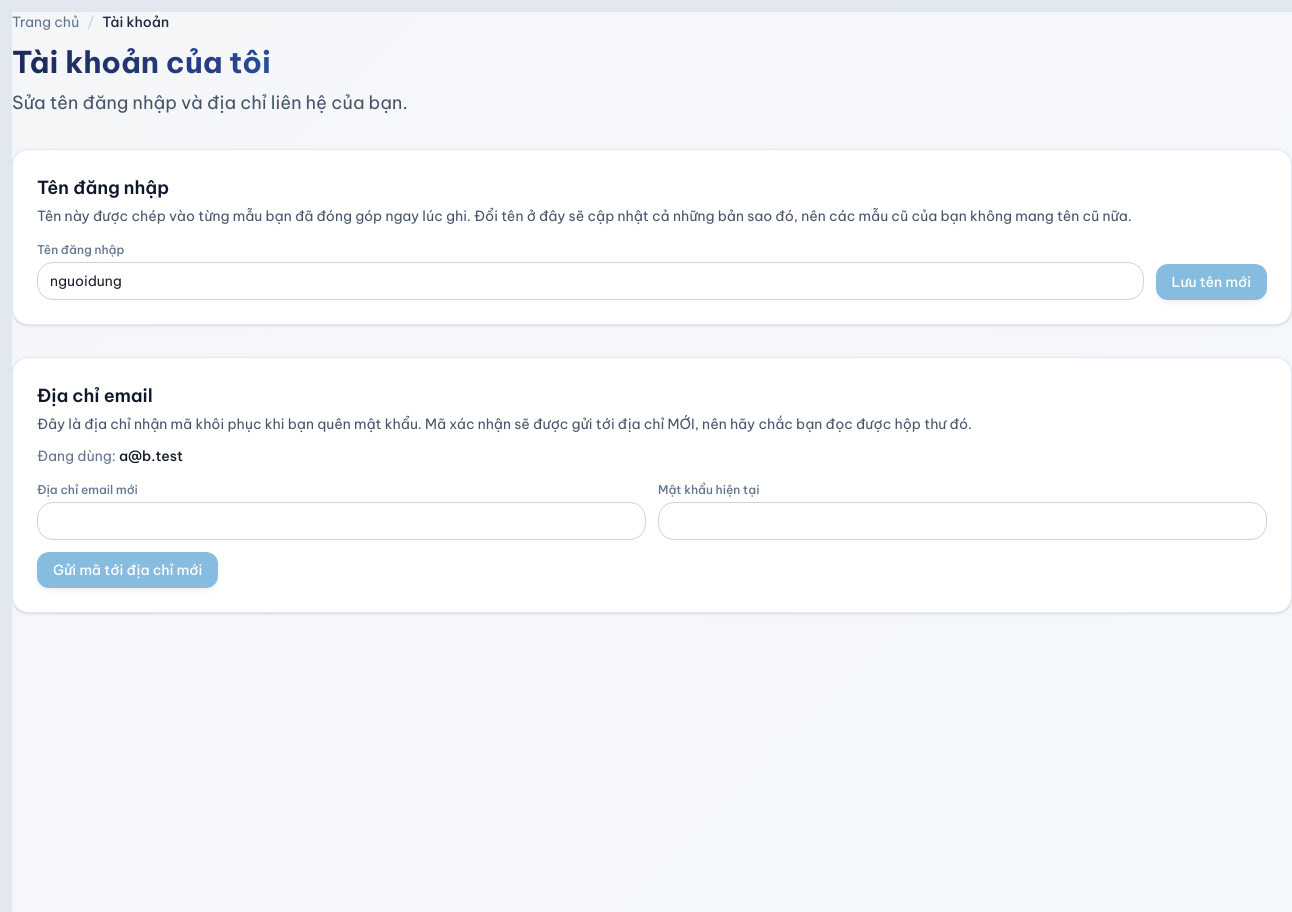
Scenario: Đổi tên đăng nhập › khoá nút khi tên chưa đổi
Expected: the button "Lưu tên mới" is disabled, x1=1156 y1=264 x2=1267 y2=300
Replace the text in the field showing "nguoidung" with "tenmoi" at (590, 281), box x1=37 y1=262 x2=1144 y2=300
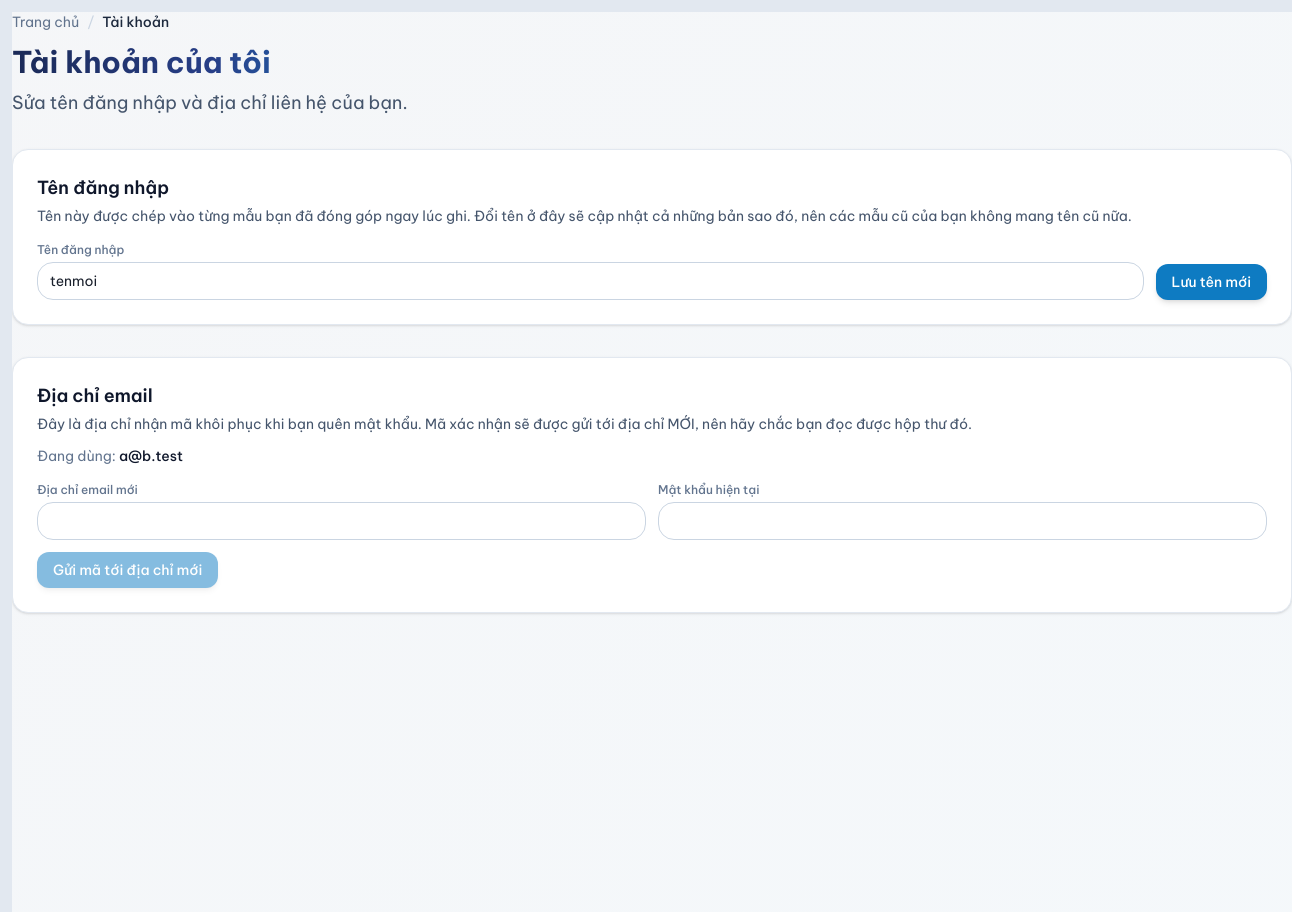
Now the button "Lưu tên mới" is enabled, box x1=1156 y1=264 x2=1267 y2=300
